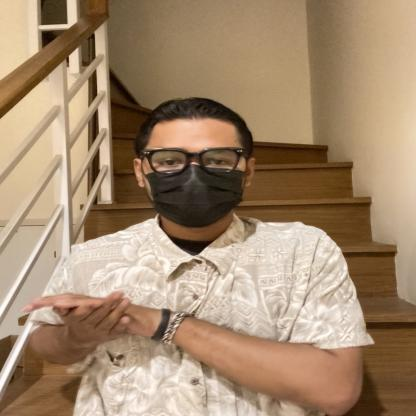Love: (8, 259, 211, 361)
